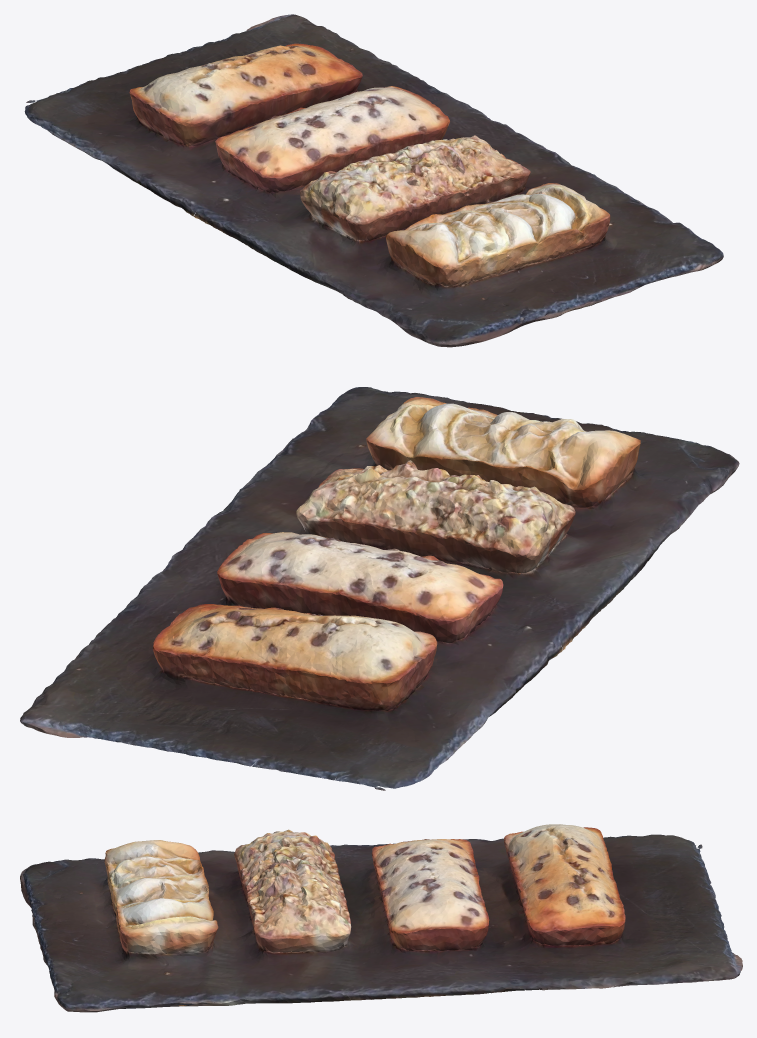
The model's file is 4ta.keik.mostatili.jadid2.glb.
3 views of the same model, one above another, from view 1: azimuth 30°, elevation 25°; view 2: azimuth 150°, elevation 25°; view 3: azimuth 270°, elevation 25° (orthographic). The views are drawn at different scales.
Visible parts, largest first — view 1: object 1; view 2: object 1; view 3: object 1.
Boxes of the visible parts, x1=… form: object 1: x1=24, y1=14, x2=723, y2=347; object 1: x1=20, y1=387, x2=739, y2=790; object 1: x1=20, y1=824, x2=742, y2=1012.
Bounding box in the file's own units: 0.192 × 0.0344 × 0.3223.
Materials: 2 (1 with a texture image).
